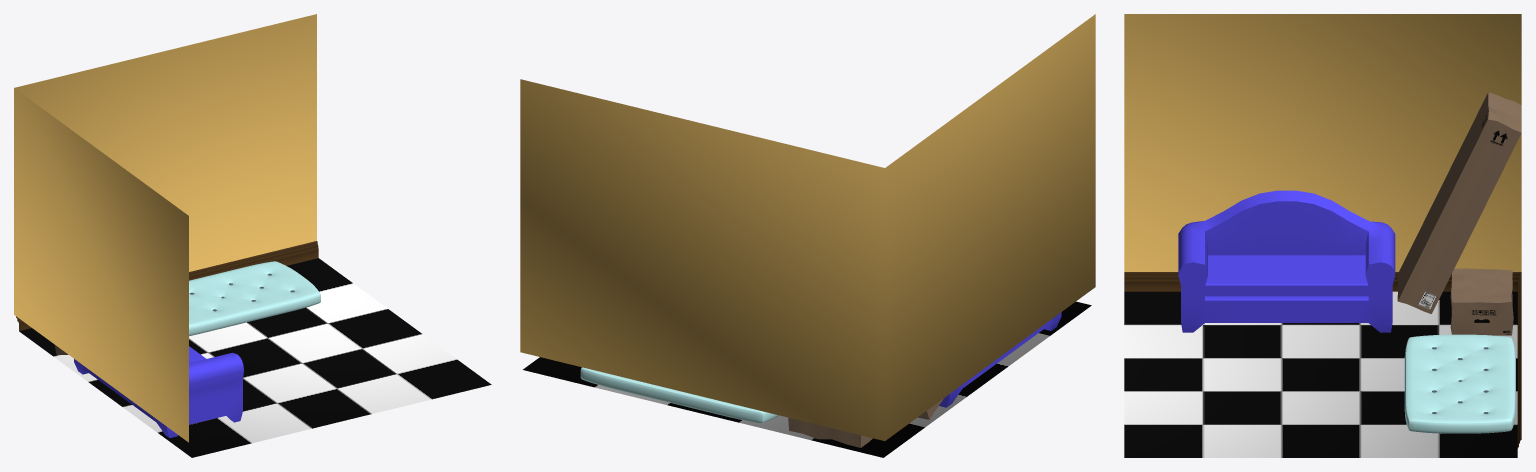
File: room.fbx
The picture shows the model from 3 angles, left to right: view 1: azimuth 30°, elevation 25°; view 2: azimuth 150°, elevation 25°; view 3: azimuth 270°, elevation 25°; orthographic projection. The views are drawn at different scales.
Visible parts, largest first — view 1: Floorboard trim, Cube.001, Sofa; view 2: Floorboard trim, Cube.001, Box, Sofa; view 3: Floorboard trim, Sofa, LargerBox, Cube.001, Box.
Boxes of the visible parts, <box> form: Floorboard trim: <box>14,14,491,457</box>; Cube.001: <box>189,261,320,336</box>; Sofa: <box>74,346,243,437</box>; Floorboard trim: <box>520,14,1095,457</box>; Cube.001: <box>580,367,778,423</box>; Box: <box>788,417,872,447</box>; Sofa: <box>939,312,1061,407</box>; Floorboard trim: <box>1124,14,1521,457</box>; Sofa: <box>1178,190,1395,332</box>; LargerBox: <box>1397,92,1521,313</box>; Cube.001: <box>1404,334,1515,433</box>; Box: <box>1450,268,1513,335</box>.
Size of the model in its own units: 1247 by 955 by 1248.
